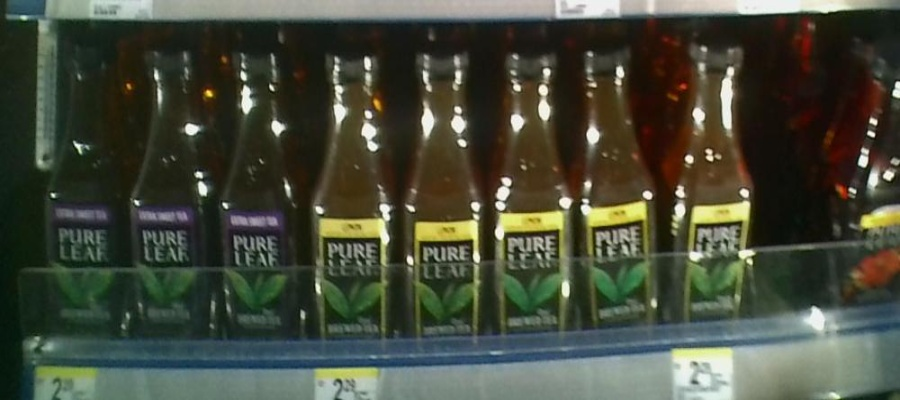bottle: (303, 42, 400, 358), (578, 35, 666, 352), (404, 45, 490, 360), (129, 40, 216, 351), (670, 32, 755, 348), (41, 43, 127, 350), (496, 35, 575, 362), (221, 40, 302, 356), (835, 58, 900, 328)
